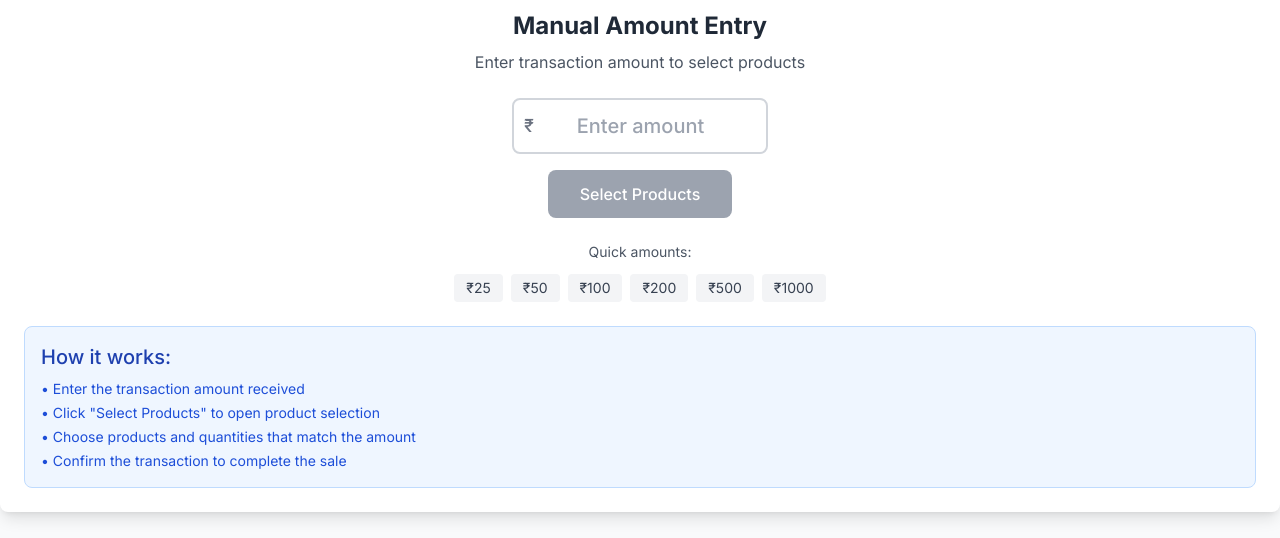
Test: ManualAmountEntry › sets amount when quick button is clicked
What coordinates should you click on to do the following:
click the button "₹100"
I would click on:
 (595, 288)
Its box is [568,274,622,302].
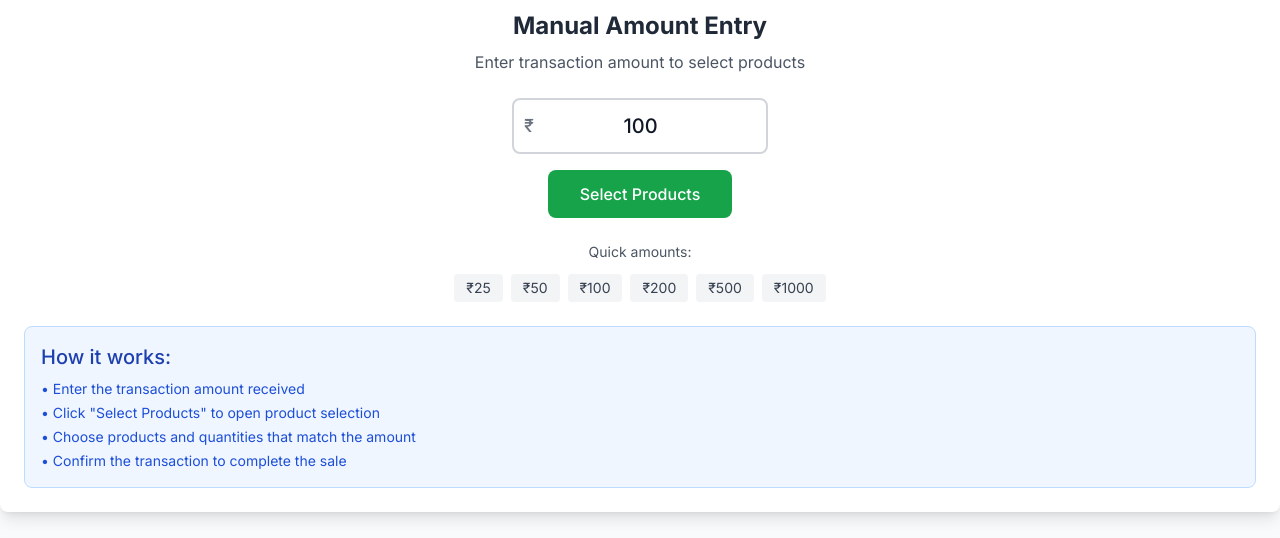
Check: the number field with placeholder "Enter amount" holds "100", box [512,98,768,154]
